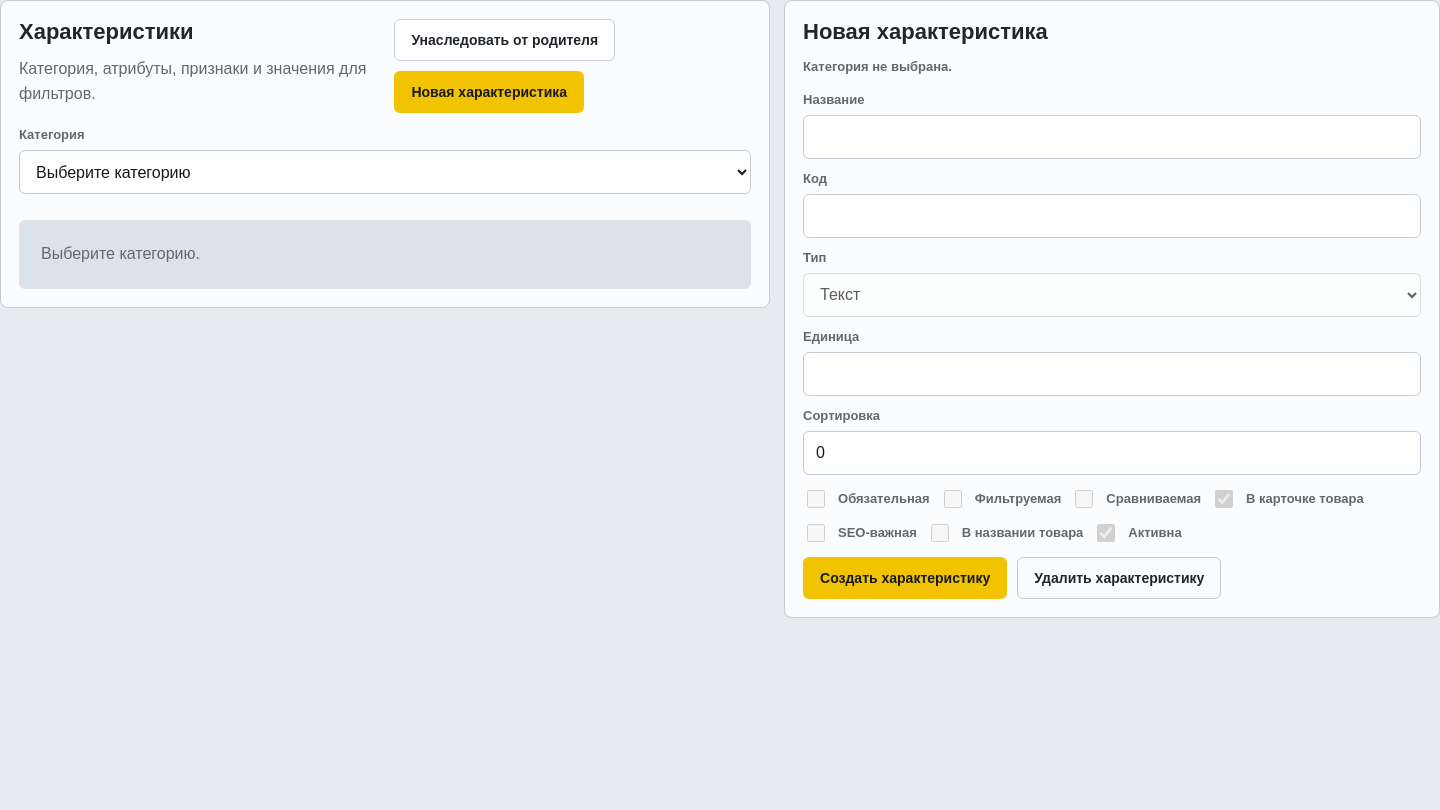
Test: AdminAttributeManager › ignores stale inherit result after selecting another category
Select "Кабели" in the dropdown labelled "Категория" at (385, 172), box [19, 150, 751, 194]
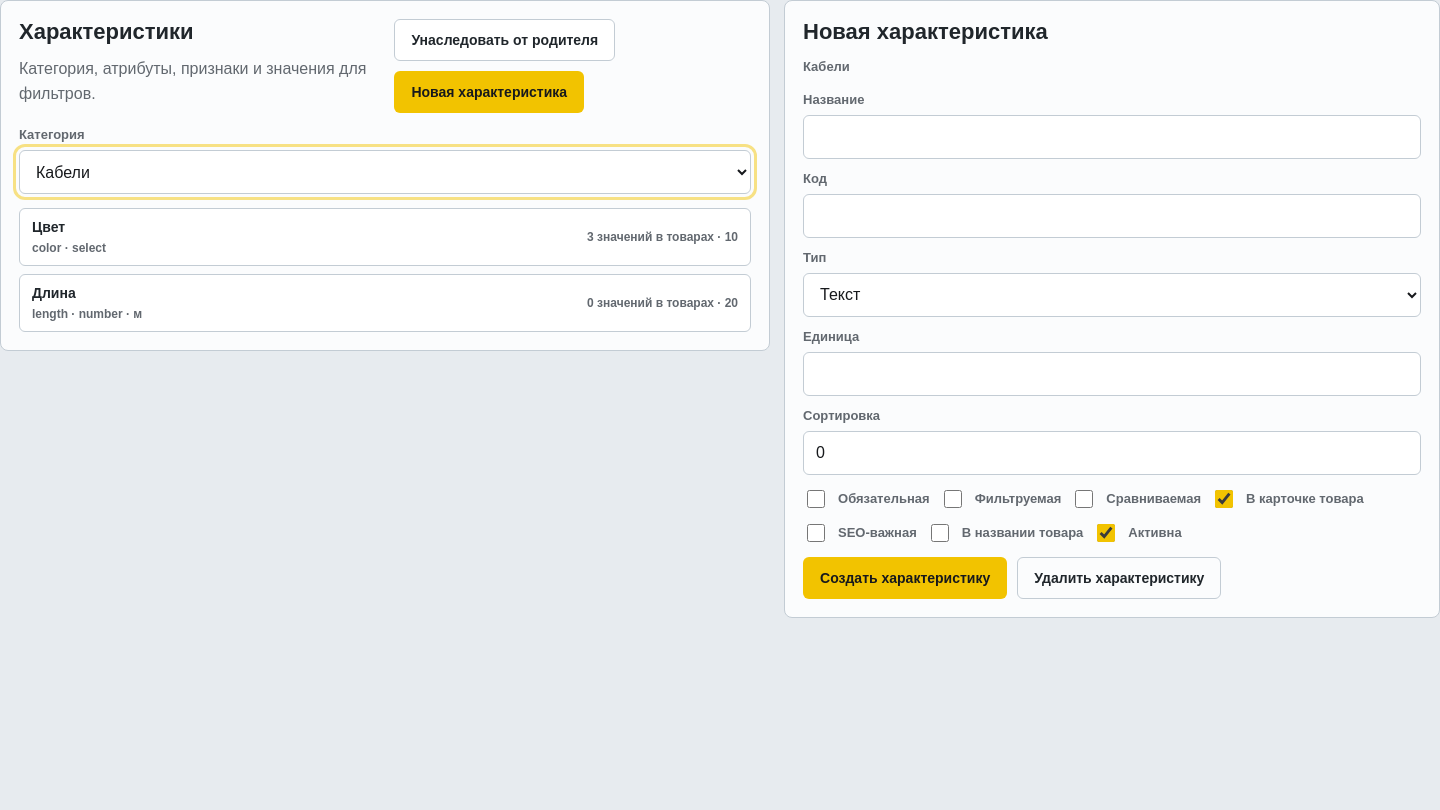
expect the button "Цвет color · select 3 значений в товарах · 10" is shown: met, box [19, 208, 751, 266]
Click the button "Унаследовать от родителя" at (505, 40), box [394, 19, 615, 61]
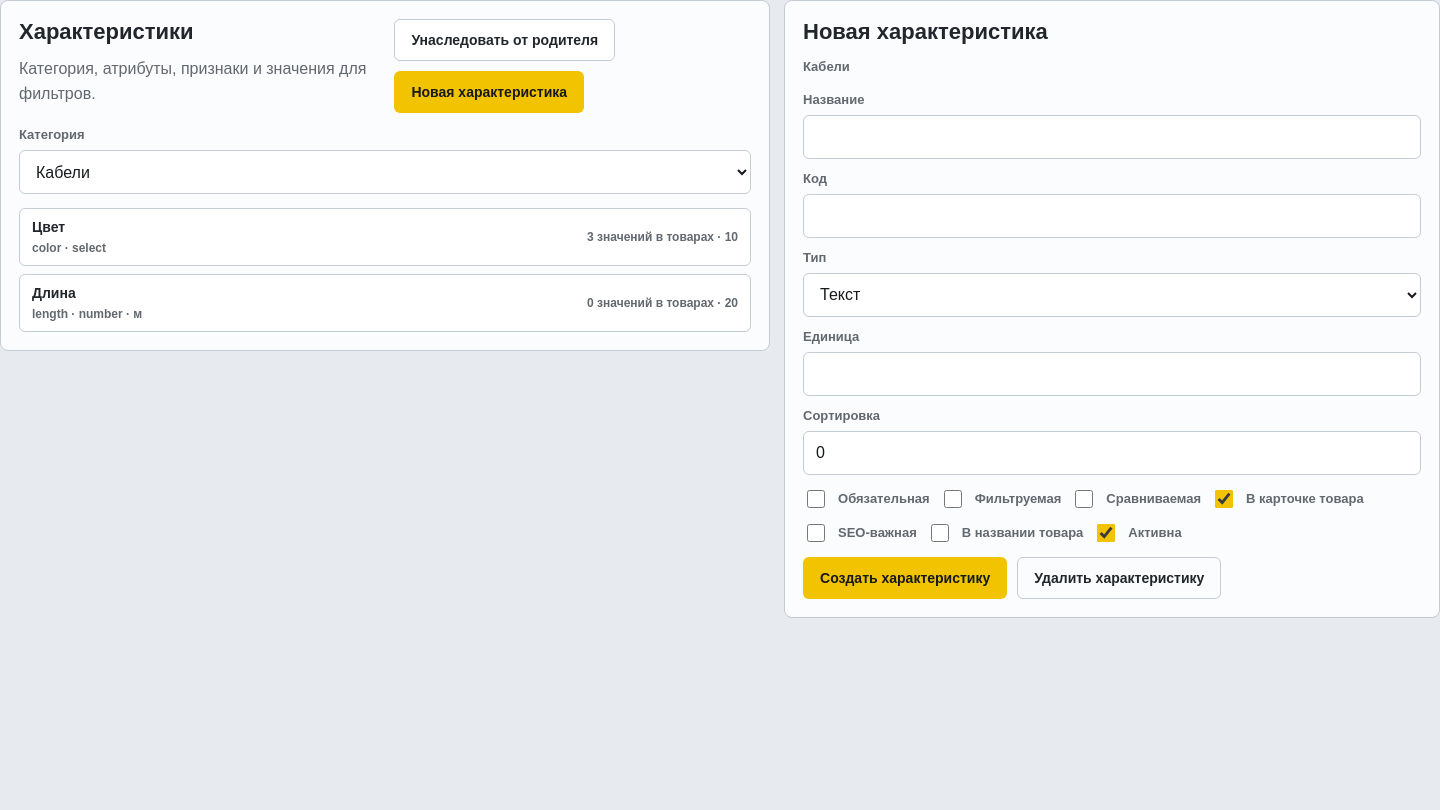
Select "Разъемы" in the dropdown labelled "Категория" at (385, 172), box [19, 150, 751, 194]
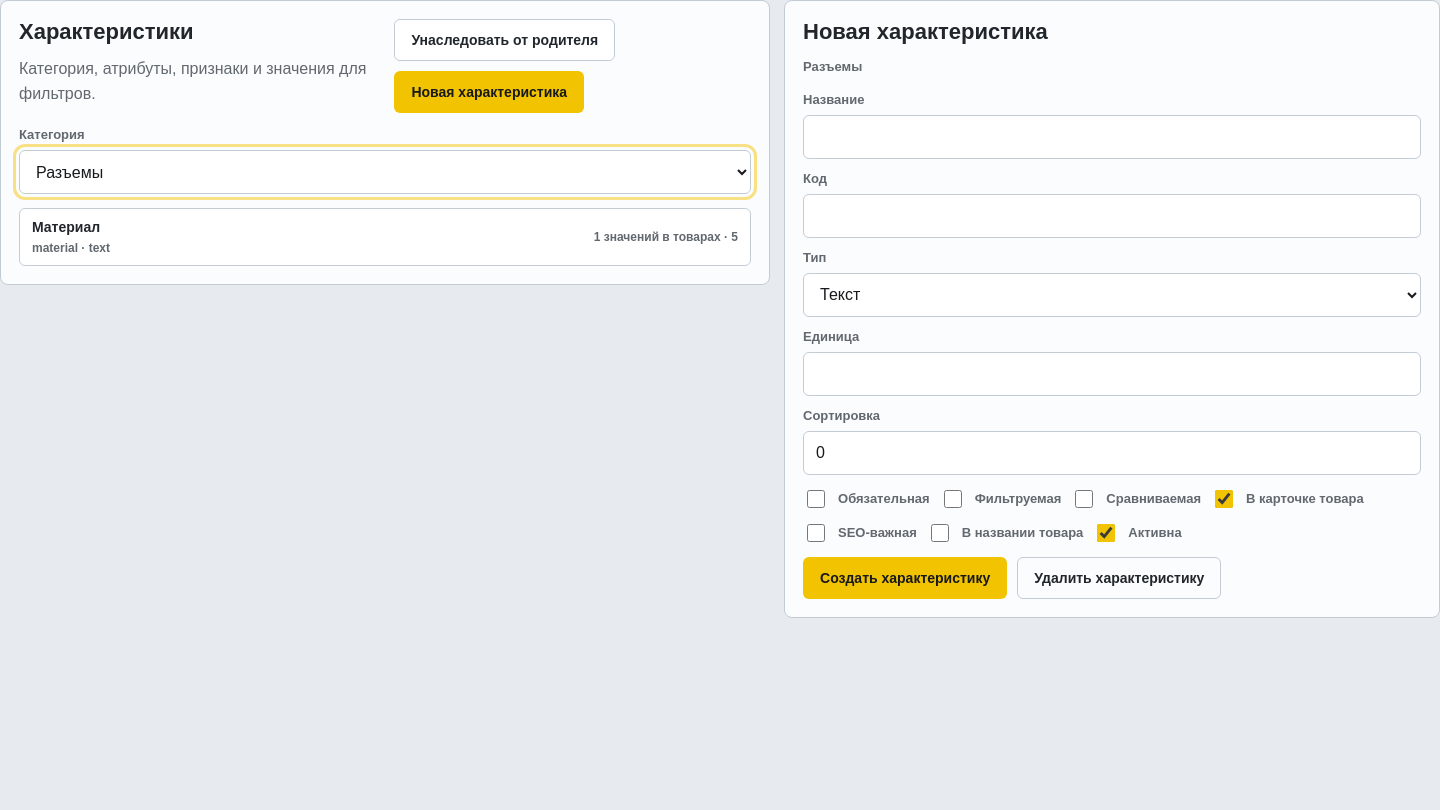
expect the button "Материал material · text 1 значений в товарах · 5" is shown: met, box [19, 208, 751, 266]
